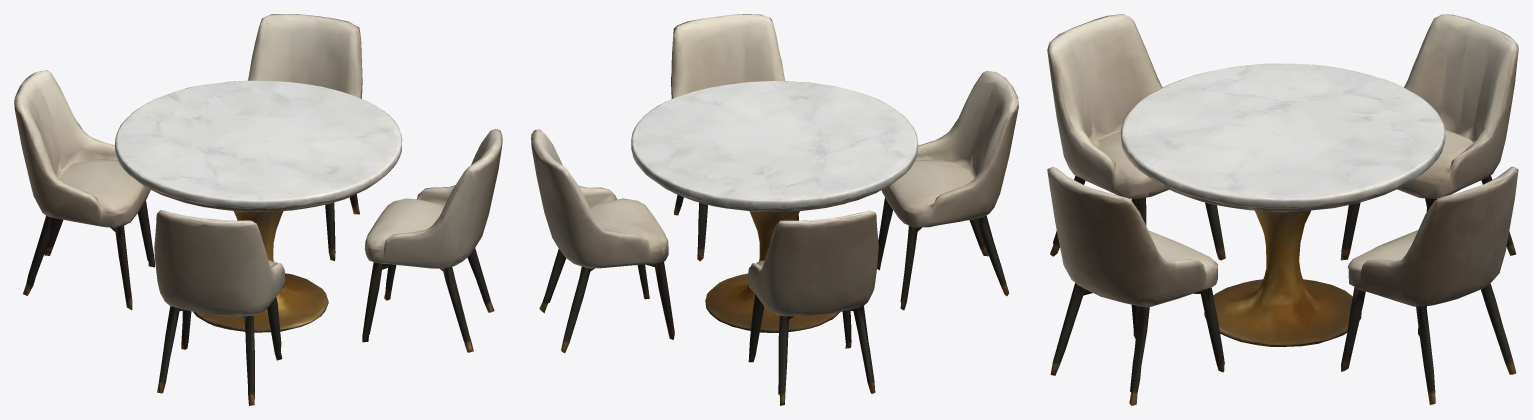
The model's file is dining-set.glb.
3 views of the same model, side by side, from view 1: azimuth 30°, elevation 25°; view 2: azimuth 150°, elevation 25°; view 3: azimuth 270°, elevation 25° (orthographic). The views are drawn at different scales.
Parts seen in each view (by area): view 1: tripo_node_deb8c4b9-9554-4b4d-bca0-140777dced76; view 2: tripo_node_deb8c4b9-9554-4b4d-bca0-140777dced76; view 3: tripo_node_deb8c4b9-9554-4b4d-bca0-140777dced76.
Boxes of the visible parts, x1,y1,x2,y2 form: tripo_node_deb8c4b9-9554-4b4d-bca0-140777dced76: [14, 14, 502, 405]; tripo_node_deb8c4b9-9554-4b4d-bca0-140777dced76: [531, 14, 1018, 405]; tripo_node_deb8c4b9-9554-4b4d-bca0-140777dced76: [1047, 14, 1518, 405].
Size of the model in its own units: 0.9393 by 0.4958 by 1.
1 material, 1 textured.
